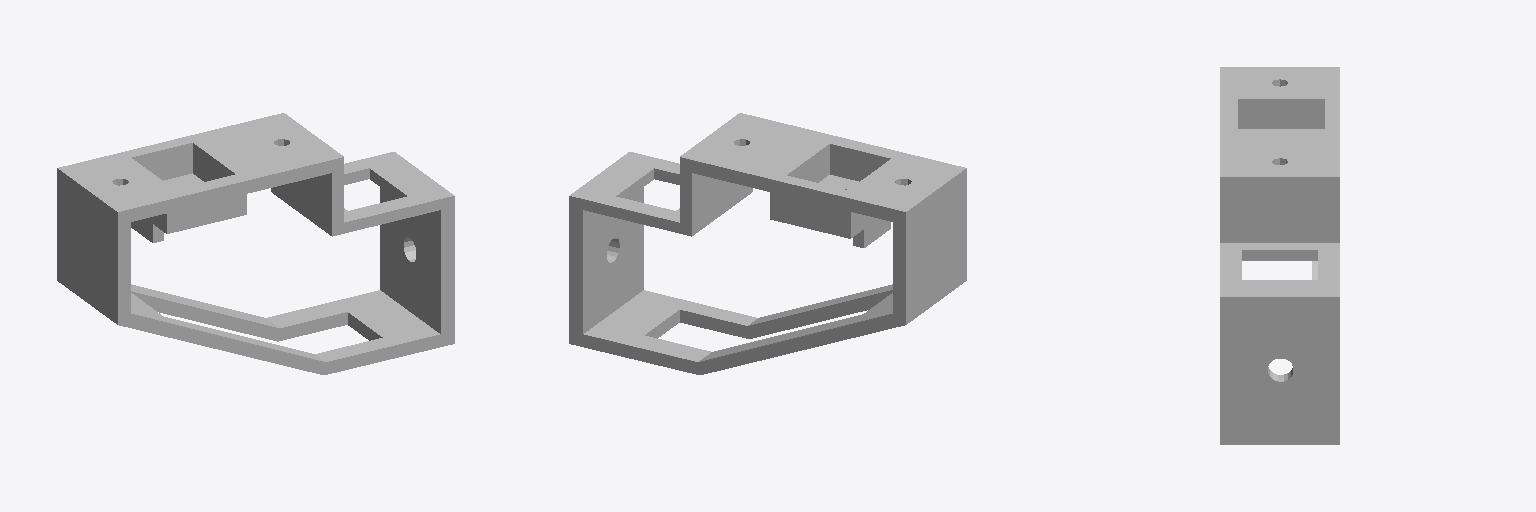
The model's file is module.obj.
3 views of the same model, side by side, from view 1: azimuth 30°, elevation 25°; view 2: azimuth 150°, elevation 25°; view 3: azimuth 270°, elevation 25° (orthographic).
Visible parts, largest first — view 1: module; view 2: module; view 3: module.
Boxes of the visible parts, <box> form: module: <box>57,113,454,374</box>; module: <box>569,113,966,374</box>; module: <box>1220,67,1339,444</box>.
Bounding box in the file's own units: 96.61 × 58.59 × 30.01.